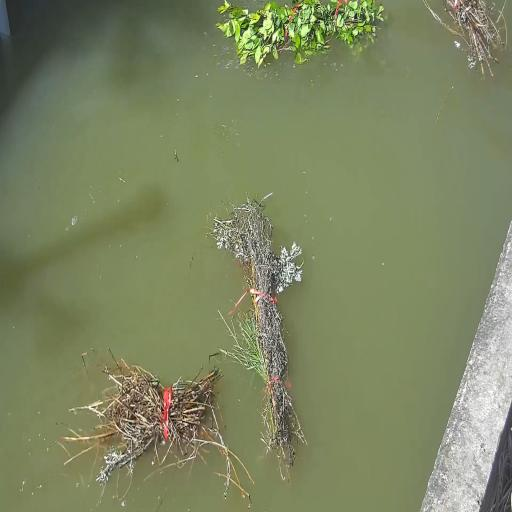twig: (211, 196, 305, 479), (62, 358, 250, 497), (217, 0, 383, 66), (442, 0, 506, 74)
